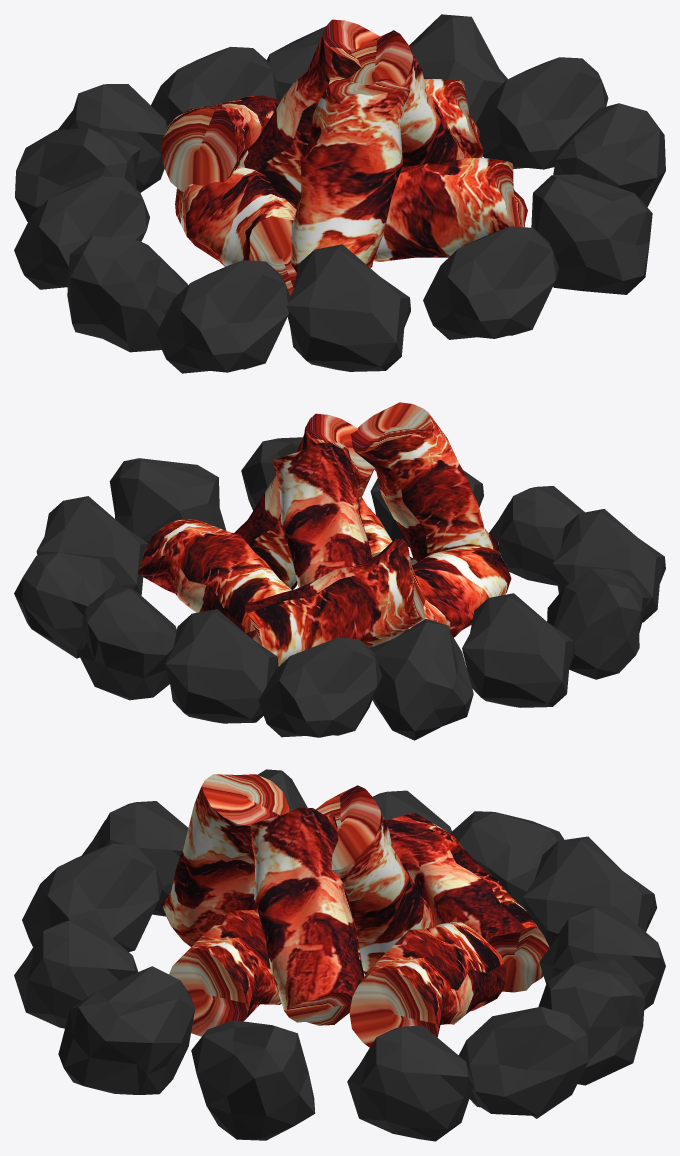
File: OGNISKO.FBX
The picture shows the model from 3 angles, top to bottom: view 1: azimuth 30°, elevation 25°; view 2: azimuth 150°, elevation 25°; view 3: azimuth 270°, elevation 25°; orthographic projection. The views are drawn at different scales.
Visible parts, largest first — view 1: Cylinder004, GeoSphere001, GeoSphere006, Cylinder003, GeoSphere002, GeoSphere007, GeoSphere003, GeoSphere009, Cylinder001, GeoSphere004, Cylinder007, GeoSphere008 (+8 smaller); view 2: Cylinder004, Cylinder002, Cylinder007, Cylinder006, GeoSphere004, GeoSphere012, GeoSphere013, GeoSphere005, GeoSphere011, GeoSphere003, GeoSphere008, GeoSphere010 (+8 smaller); view 3: Cylinder005, GeoSphere007, Cylinder006, Cylinder004, Cylinder002, GeoSphere008, GeoSphere010, GeoSphere009, Cylinder007, GeoSphere001, Cylinder003, GeoSphere006 (+7 smaller).
Part boxes in pixels (x1,y1,x2,y2): Cylinder004: [291, 76, 410, 272]; GeoSphere001: [287, 244, 410, 371]; GeoSphere006: [423, 226, 558, 339]; Cylinder003: [373, 156, 527, 261]; GeoSphere002: [156, 260, 289, 373]; GeoSphere007: [531, 174, 652, 294]; GeoSphere003: [67, 235, 187, 352]; GeoSphere009: [476, 57, 608, 169]; Cylinder001: [175, 166, 296, 295]; GeoSphere004: [14, 176, 149, 289]; Cylinder007: [243, 19, 379, 209]; GeoSphere008: [553, 103, 665, 206]; Cylinder004: [350, 402, 498, 561]; Cylinder002: [245, 538, 425, 666]; Cylinder007: [272, 442, 372, 587]; Cylinder006: [137, 518, 291, 645]; GeoSphere004: [462, 593, 575, 707]; GeoSphere012: [165, 609, 278, 723]; GeoSphere013: [258, 637, 381, 737]; GeoSphere005: [369, 619, 473, 740]; GeoSphere011: [80, 584, 176, 700]; GeoSphere003: [547, 569, 648, 679]; GeoSphere008: [109, 458, 226, 543]; GeoSphere010: [14, 552, 119, 658]; Cylinder005: [250, 807, 364, 1025]; GeoSphere007: [58, 966, 195, 1094]; Cylinder006: [349, 922, 506, 1047]; Cylinder004: [162, 774, 289, 946]; Cylinder002: [386, 813, 549, 992]; GeoSphere008: [191, 1020, 315, 1140]; GeoSphere010: [458, 1006, 588, 1118]; GeoSphere009: [347, 1025, 473, 1141]; Cylinder007: [315, 785, 434, 974]; GeoSphere001: [22, 843, 162, 951]; Cylinder003: [169, 909, 281, 1036]; GeoSphere006: [14, 919, 138, 1028].
Bounding box in the file's own units: 291 × 107 × 267.
2 materials, 1 textured.
